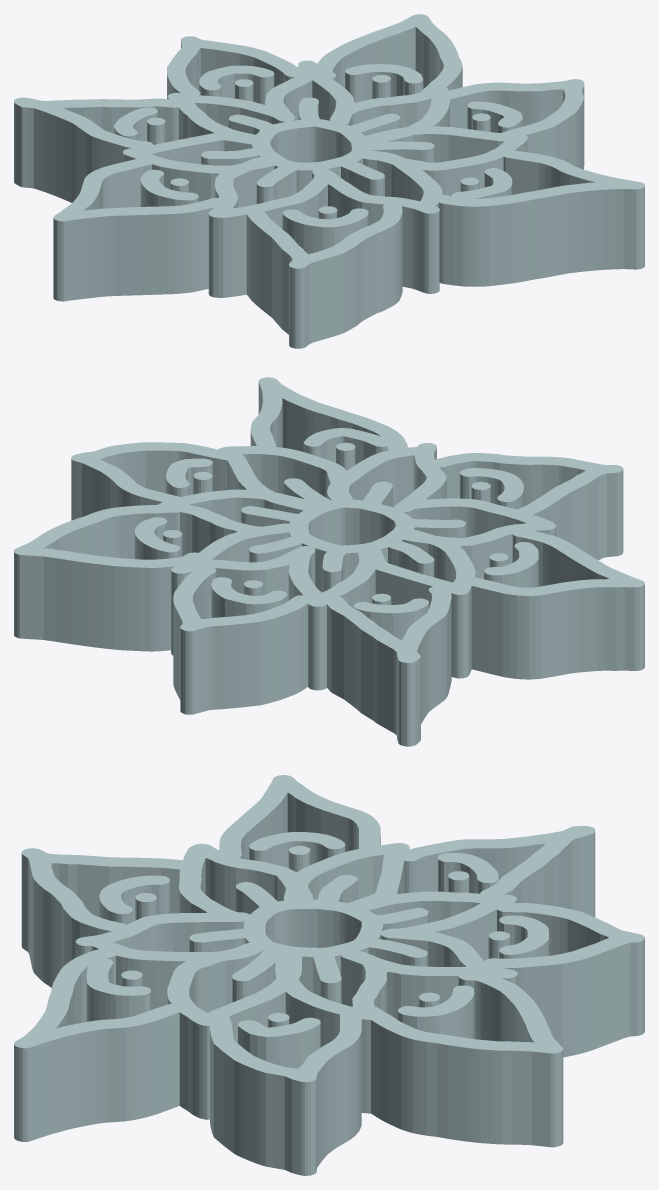
Rendered from asset.glb.
3 views of the same model, one above another, from view 1: azimuth 30°, elevation 25°; view 2: azimuth 150°, elevation 25°; view 3: azimuth 270°, elevation 25° (orthographic). The views are drawn at different scales.
Parts seen in each view (by area): view 1: Mesh_Mesh_head_geo.001_lambert2SG.001; view 2: Mesh_Mesh_head_geo.001_lambert2SG.001; view 3: Mesh_Mesh_head_geo.001_lambert2SG.001.
Part boxes in pixels (box(x1,y1,x2,y2)): Mesh_Mesh_head_geo.001_lambert2SG.001: box(14, 14, 644, 348); Mesh_Mesh_head_geo.001_lambert2SG.001: box(14, 377, 644, 746); Mesh_Mesh_head_geo.001_lambert2SG.001: box(14, 775, 644, 1175).
Bounding box in the file's own units: 70.26 × 10 × 61.
